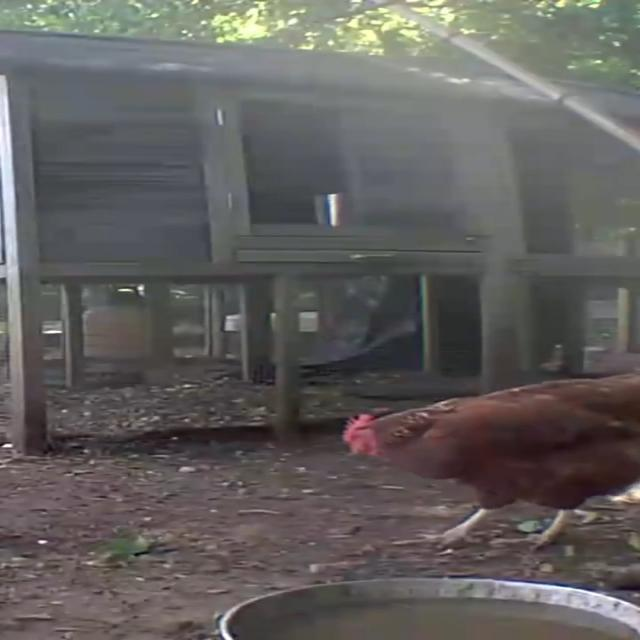walking: (326, 364, 640, 554)
